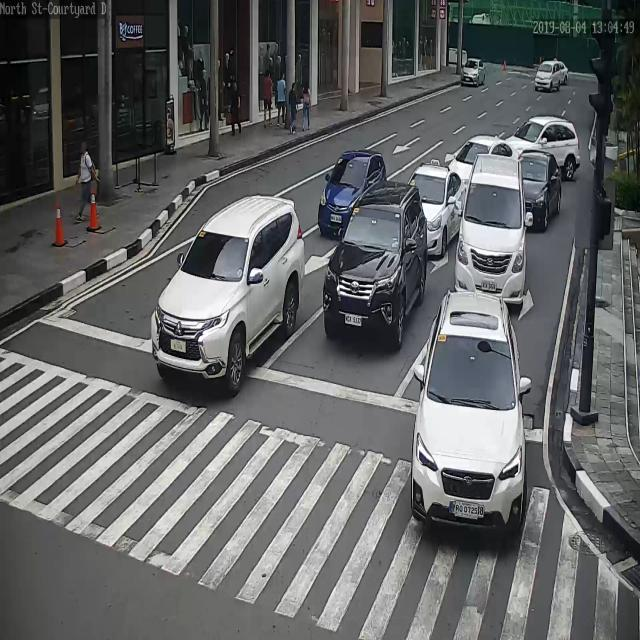car: (153, 197, 308, 385), (412, 294, 528, 532), (323, 184, 427, 348), (318, 150, 386, 233), (407, 165, 462, 257), (504, 118, 583, 176), (513, 153, 563, 230), (448, 135, 517, 186), (533, 60, 566, 88), (461, 58, 487, 88)
van: (454, 159, 530, 302)
